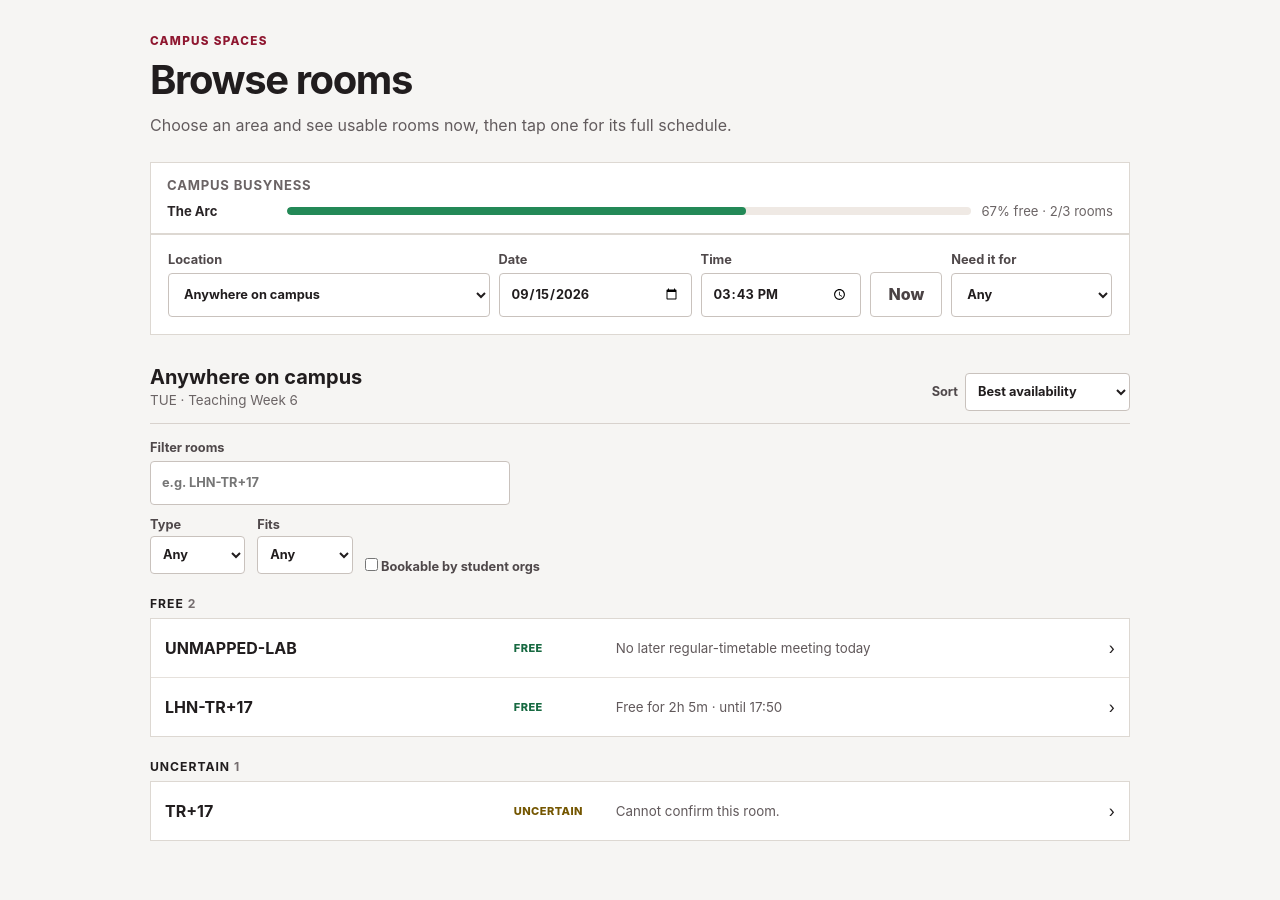
Test case: Browse Rooms › selects a named location and renders all three status groups
Expected: the text "UNMAPPED-LAB" is shown, [165,638,297,658]
Select "The Arc · 3 rooms" in the dropdown labelled "Location": {"x": 329, "y": 295} [168,273,490,317]
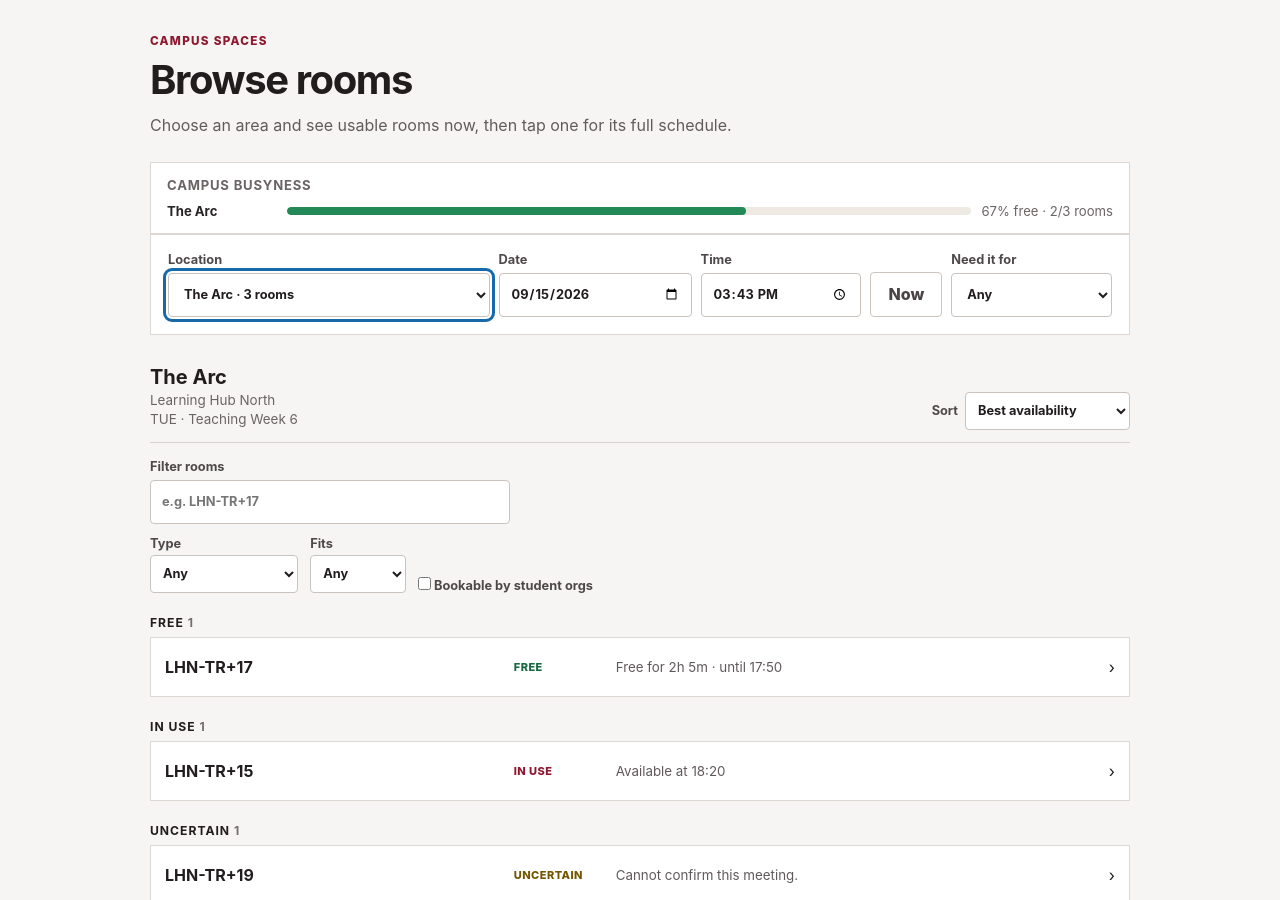
Now the text "Available at 18:20" is shown, box [616,763,726,779]
Now the text "Free for 2h 5m · until 17:50" is shown, box [616,659,782,675]
Now the text "Cannot confirm this meeting." is shown, box [616,867,798,883]
